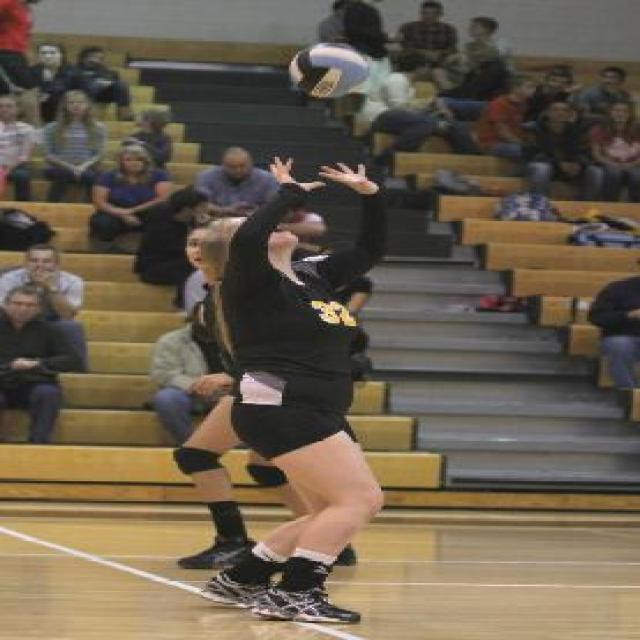volleyball: (288, 42, 369, 100)
